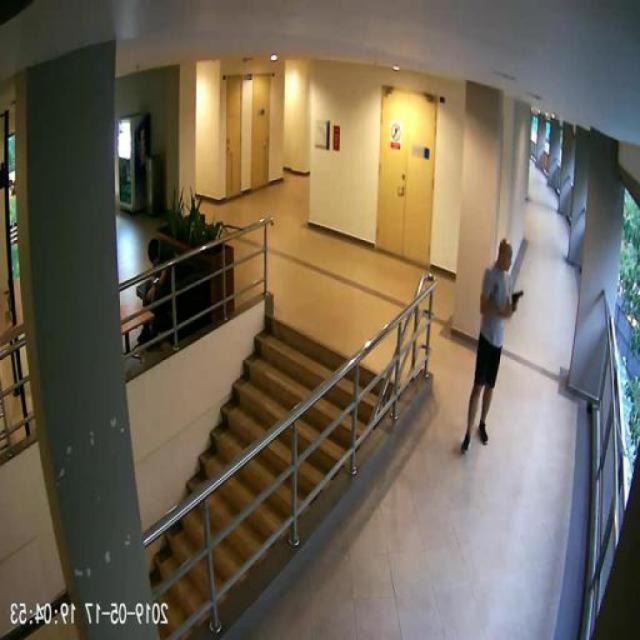pistol: (512, 289, 526, 310)
